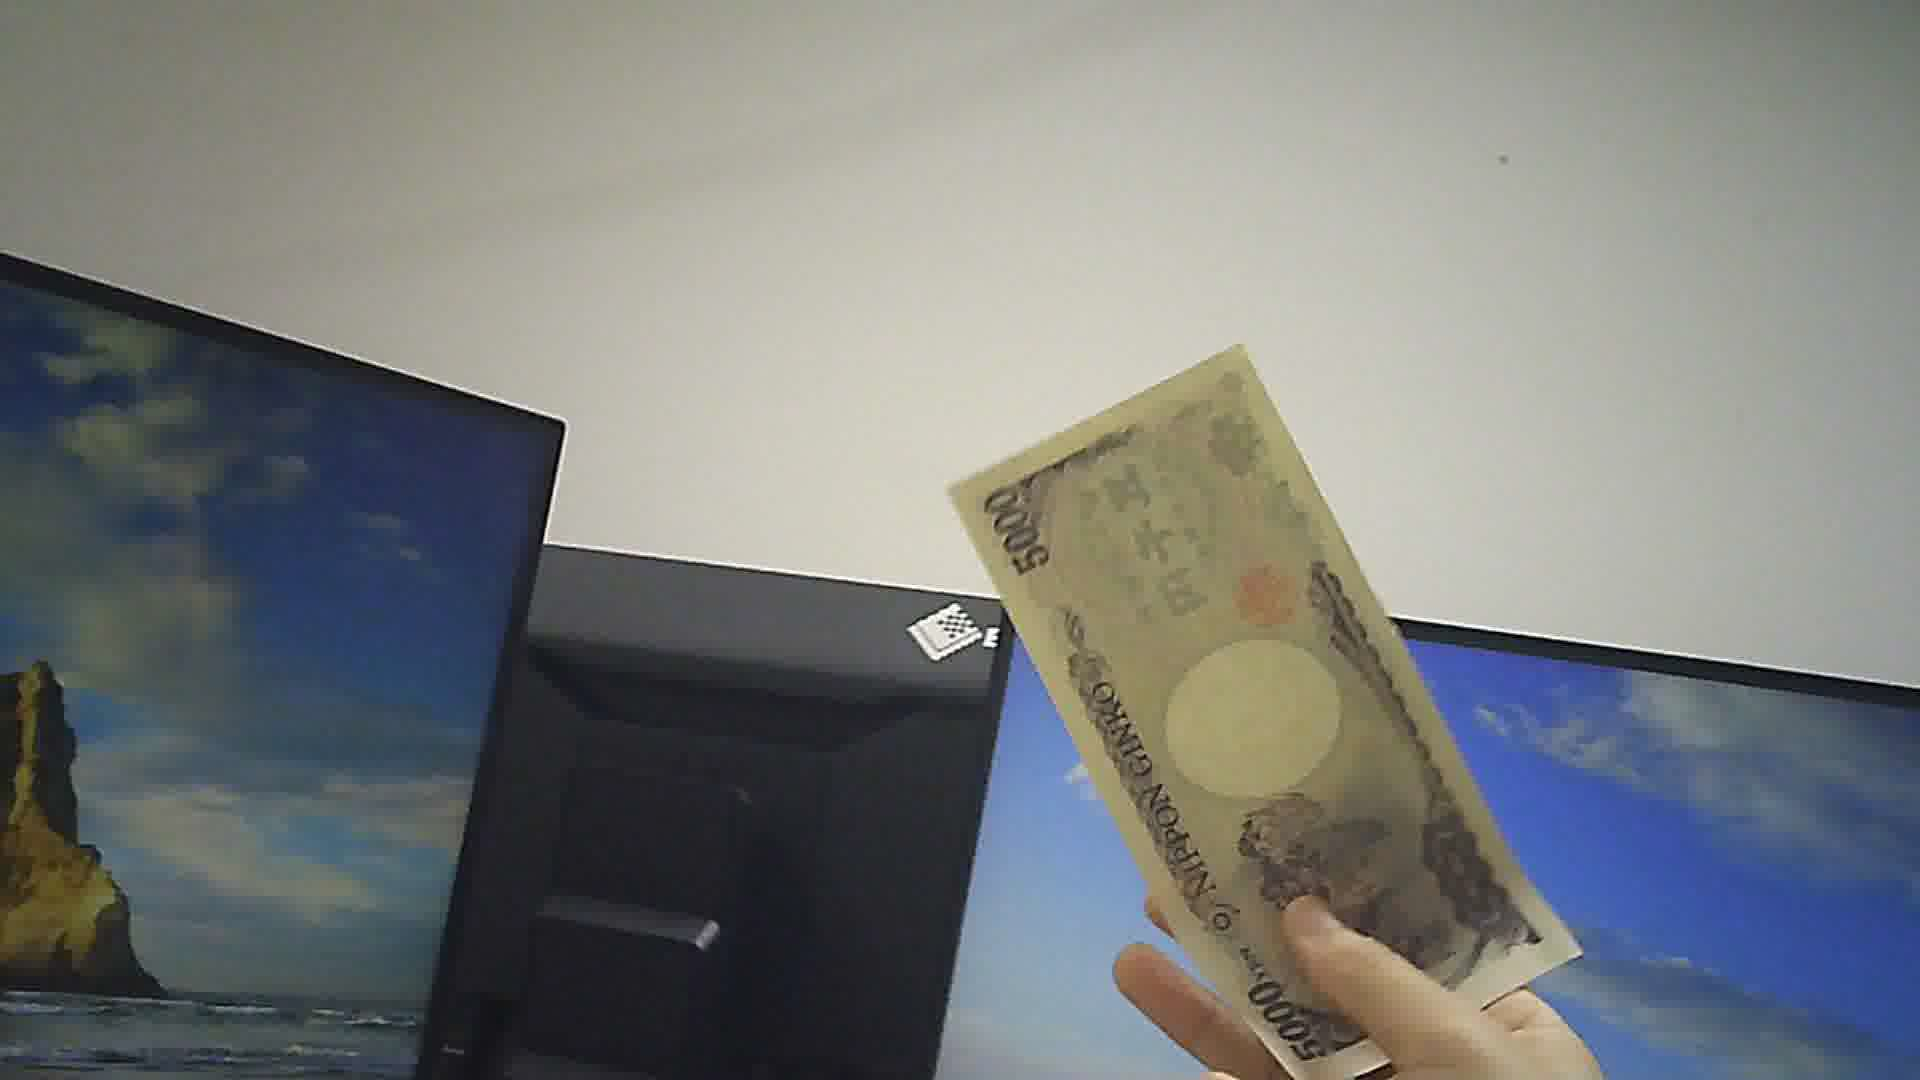5,000 Yen: (948, 355, 1631, 1079)
